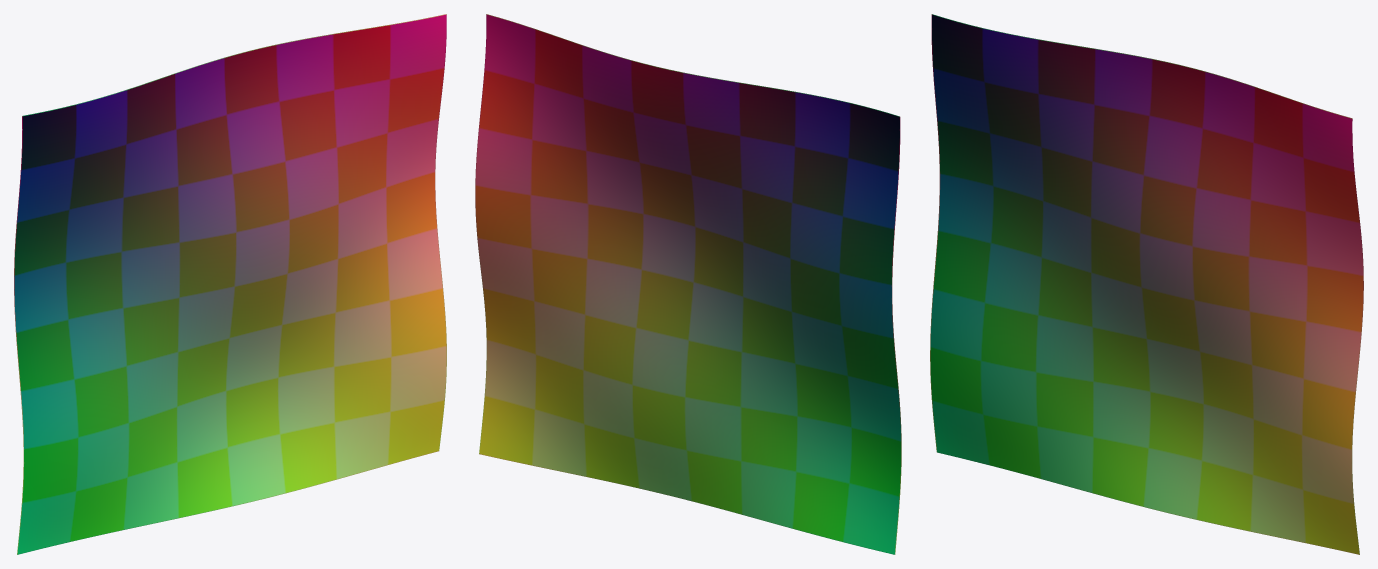
The model's file is Tile_+006_+024.obj.
The picture shows the model from 3 angles, left to right: view 1: azimuth 30°, elevation 25°; view 2: azimuth 150°, elevation 25°; view 3: azimuth 330°, elevation 25°; orthographic projection.
Bounding box in the file's own units: 100 × 100 × 5.53.
